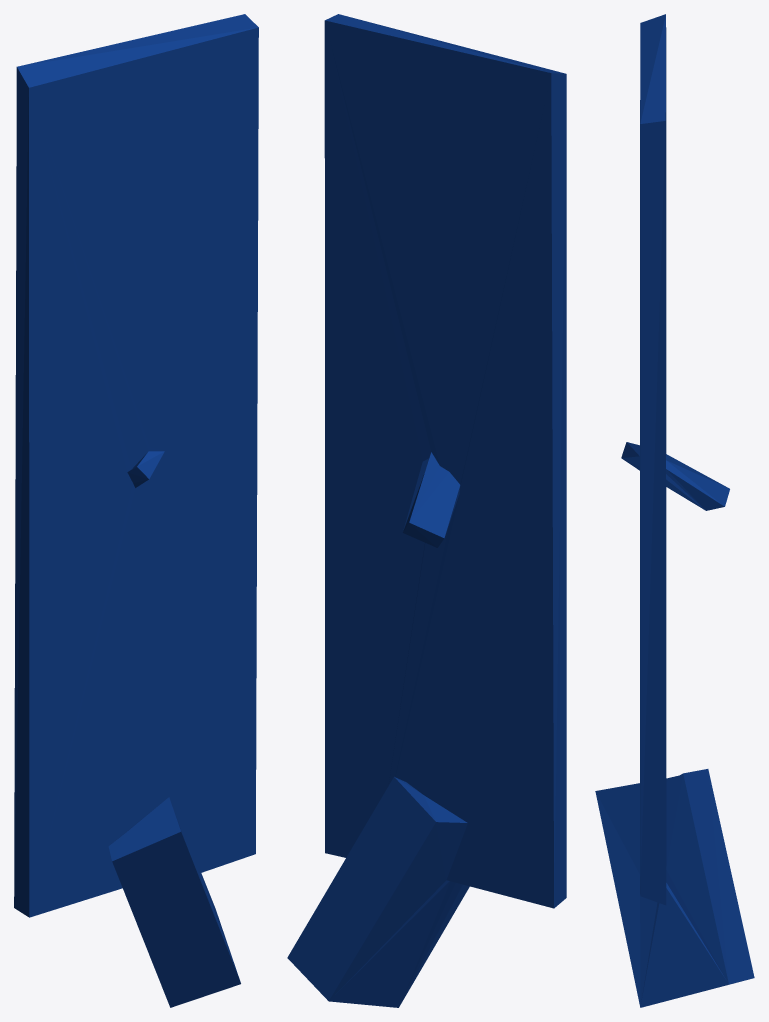
The picture shows the model from 3 angles, left to right: view 1: azimuth 30°, elevation 25°; view 2: azimuth 150°, elevation 25°; view 3: azimuth 270°, elevation 25°; orthographic projection. The views are drawn at different scales.
Visible parts, largest first — view 1: 654_Cube.2629; view 2: 654_Cube.2629; view 3: 654_Cube.2629.
Boxes of the visible parts, box(x1,y1,x2,y2) form: 654_Cube.2629: box(14, 14, 258, 1007); 654_Cube.2629: box(287, 14, 566, 1007); 654_Cube.2629: box(595, 14, 754, 1007).
Size of the model in its own units: 3.54 by 14.08 by 2.22.
